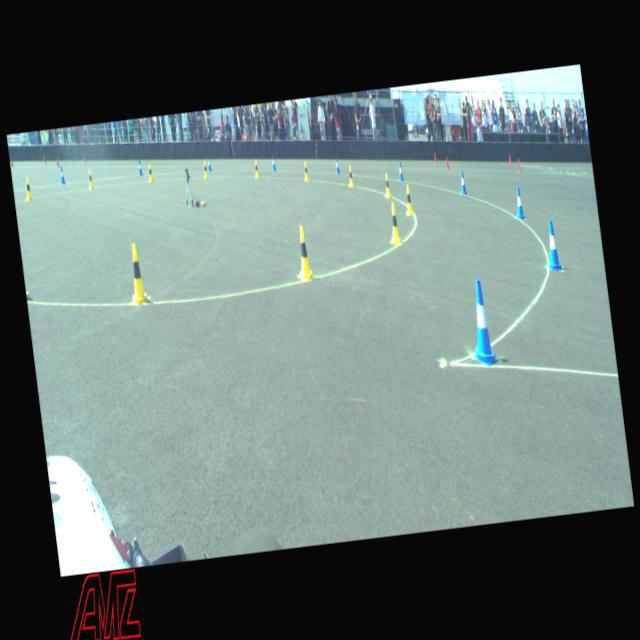blue_cone: (464, 277, 499, 368), (543, 220, 562, 270), (512, 187, 524, 220), (458, 170, 468, 194), (397, 162, 404, 180), (59, 166, 65, 184), (334, 157, 340, 174), (270, 154, 276, 170), (137, 159, 143, 175), (206, 156, 212, 172)
yellow_cone: (126, 242, 150, 306), (291, 224, 313, 280), (386, 202, 402, 245), (402, 183, 413, 216), (382, 172, 392, 198), (23, 176, 33, 200), (346, 165, 354, 188), (302, 161, 310, 181), (86, 169, 94, 189), (252, 160, 260, 178), (146, 162, 153, 182), (202, 160, 208, 178)
